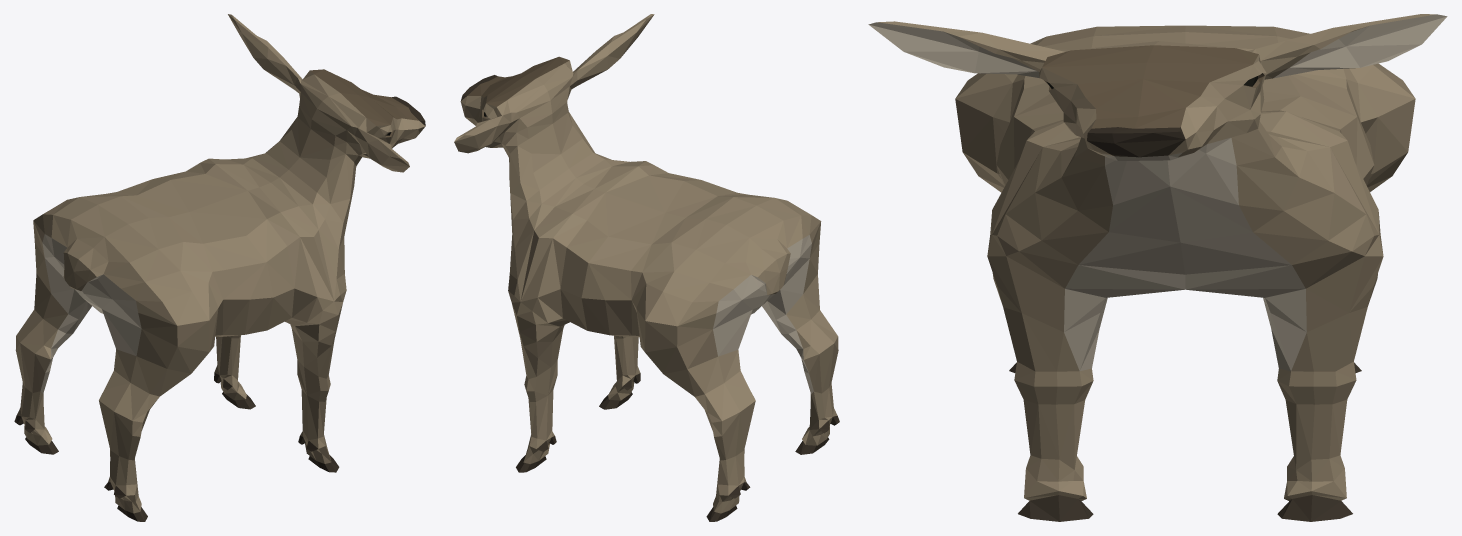
File: reindeer.glb
3 renders of one model, left to right at view 1: azimuth 30°, elevation 25°; view 2: azimuth 150°, elevation 25°; view 3: azimuth 270°, elevation 25°, orthographic. The views are drawn at different scales.
Size of the model in its own units: 0.9967 by 1 by 1.
